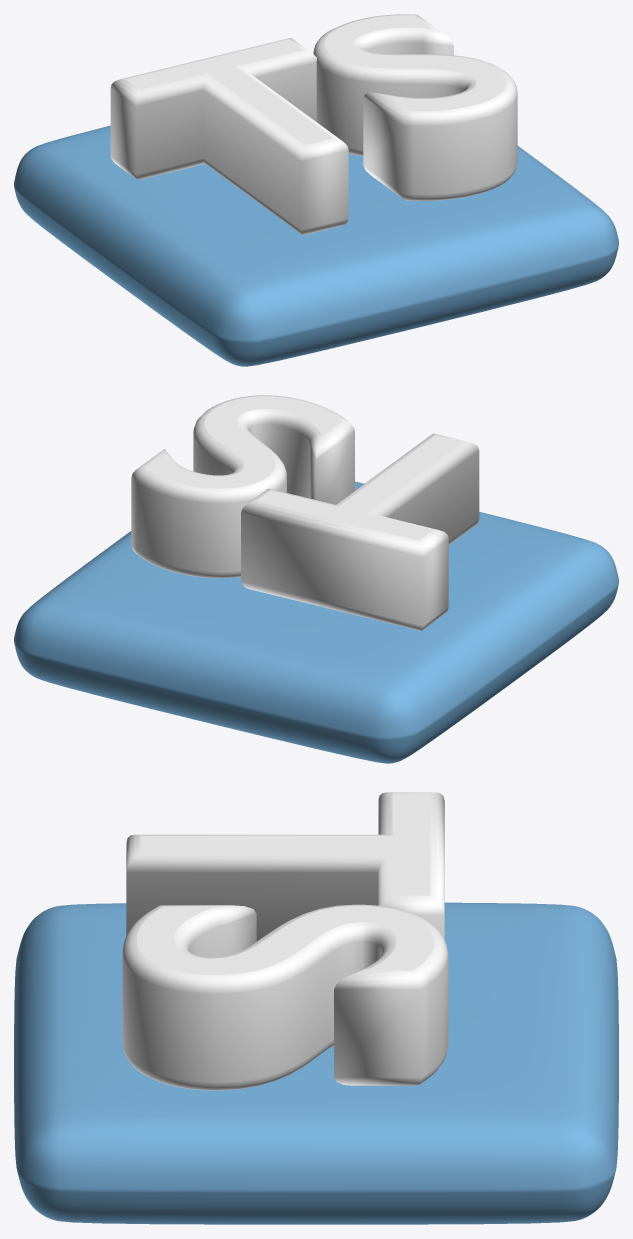
The model's file is typescript.glb.
The picture shows the model from 3 angles, top to bottom: view 1: azimuth 30°, elevation 25°; view 2: azimuth 150°, elevation 25°; view 3: azimuth 270°, elevation 25°; orthographic projection. The views are drawn at different scales.
Visible parts, largest first — view 1: Cube, Text; view 2: Cube, Text; view 3: Cube, Text.
Boxes of the visible parts, box(x1,y1,x2,y2) form: Cube: box(14, 125, 618, 366); Text: box(110, 14, 517, 235); Cube: box(14, 481, 618, 763); Text: box(131, 395, 479, 630); Cube: box(14, 902, 618, 1224); Text: box(122, 792, 448, 1090).
Size of the model in its own units: 0.4994 by 0.2117 by 0.4994.
